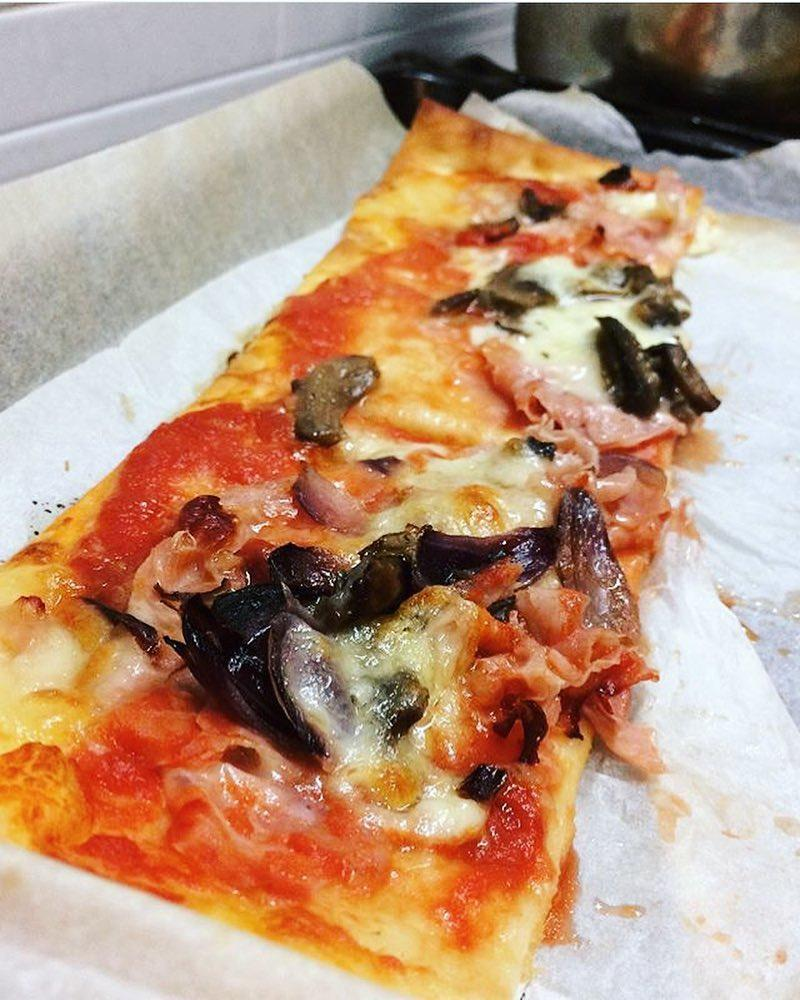Arugula: (277, 521, 568, 615), (171, 576, 327, 751)
Cheese: (517, 246, 614, 389), (416, 451, 541, 523)
Ham: (486, 334, 669, 460), (116, 517, 237, 645), (494, 631, 644, 723), (542, 489, 642, 624), (547, 457, 668, 538), (281, 457, 387, 533), (554, 197, 668, 247)
Mushroom: (286, 349, 379, 454), (596, 317, 694, 416), (424, 267, 548, 319), (597, 261, 690, 323)
Pizza: (6, 109, 698, 1000)
